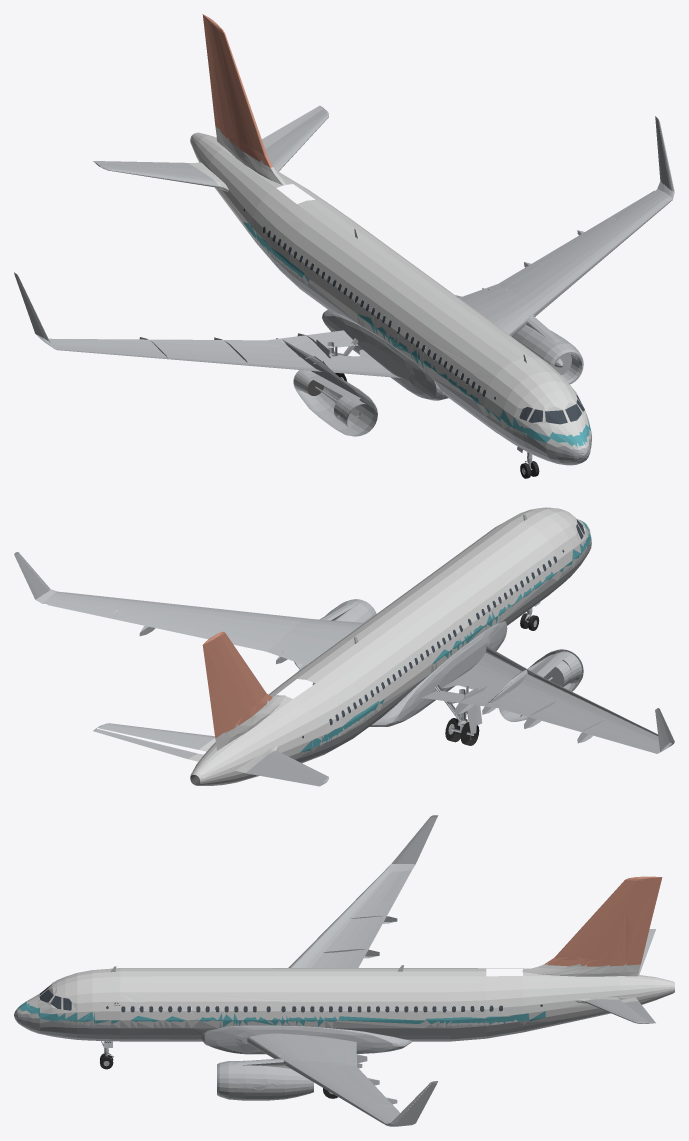
The model's file is sunshore-airways.glb.
3 renders of one model, top to bottom at view 1: azimuth 30°, elevation 25°; view 2: azimuth 150°, elevation 25°; view 3: azimuth 270°, elevation 25°, orthographic. The views are drawn at different scales.
Visible parts, largest first — view 1: sunshore-airways; view 2: sunshore-airways; view 3: sunshore-airways.
Part boxes in pixels (box(x1,y1,x2,y2)): sunshore-airways: box(14, 14, 674, 478); sunshore-airways: box(14, 507, 674, 786); sunshore-airways: box(14, 815, 674, 1126).
Size of the model in its own units: 35.65 by 11.89 by 37.42.
